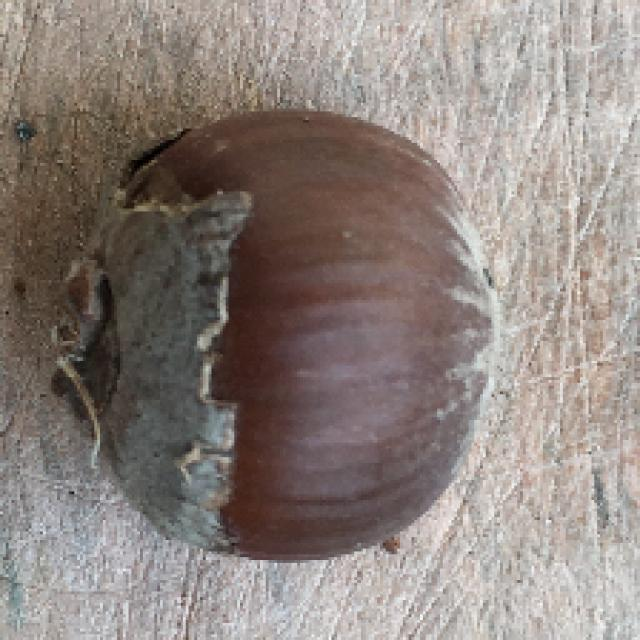damagedHazelnut: (51, 108, 516, 566)
